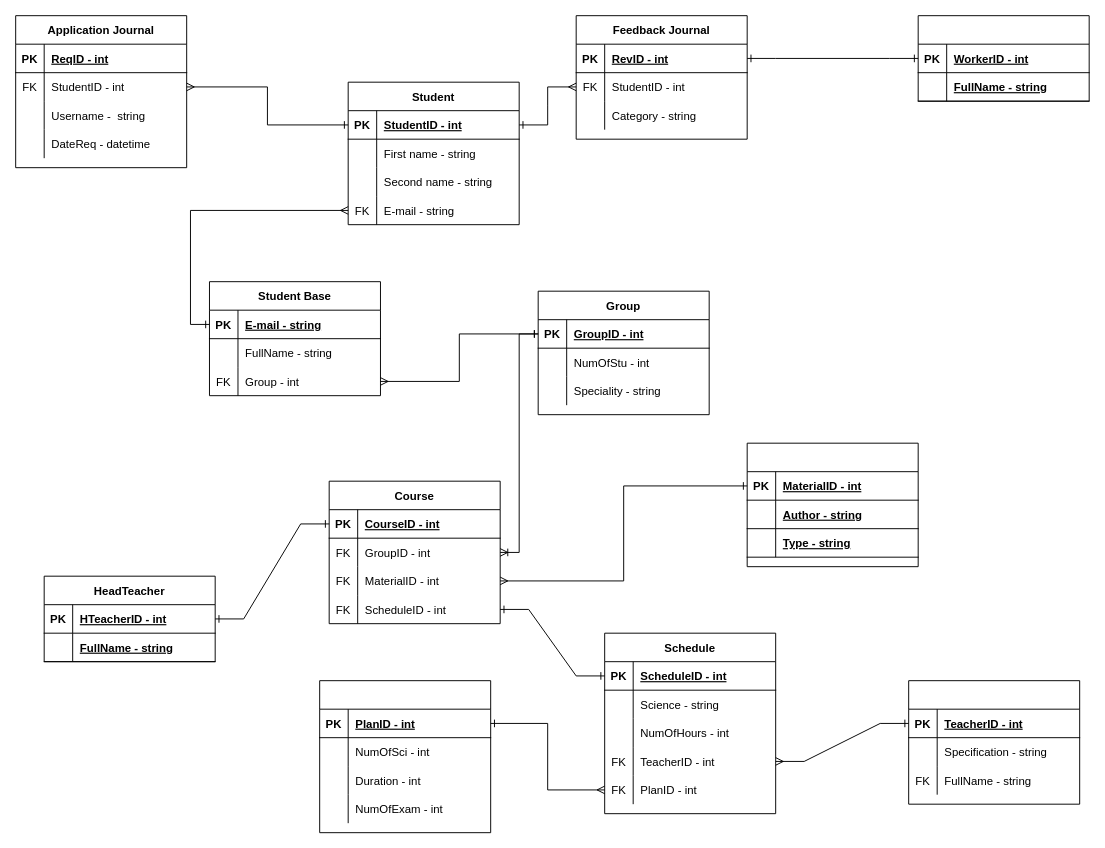
The diagram is 1105 pixels wide and 848 high, and some of its shapes have lost their labels. Here are the shapes that lost their labels. From the top down, the box of each, then its label:
(917, 15, 1089, 101): Technicians
(746, 442, 918, 567): Course material
(319, 680, 491, 833): Educational Plan
(908, 680, 1080, 804): Teachers
